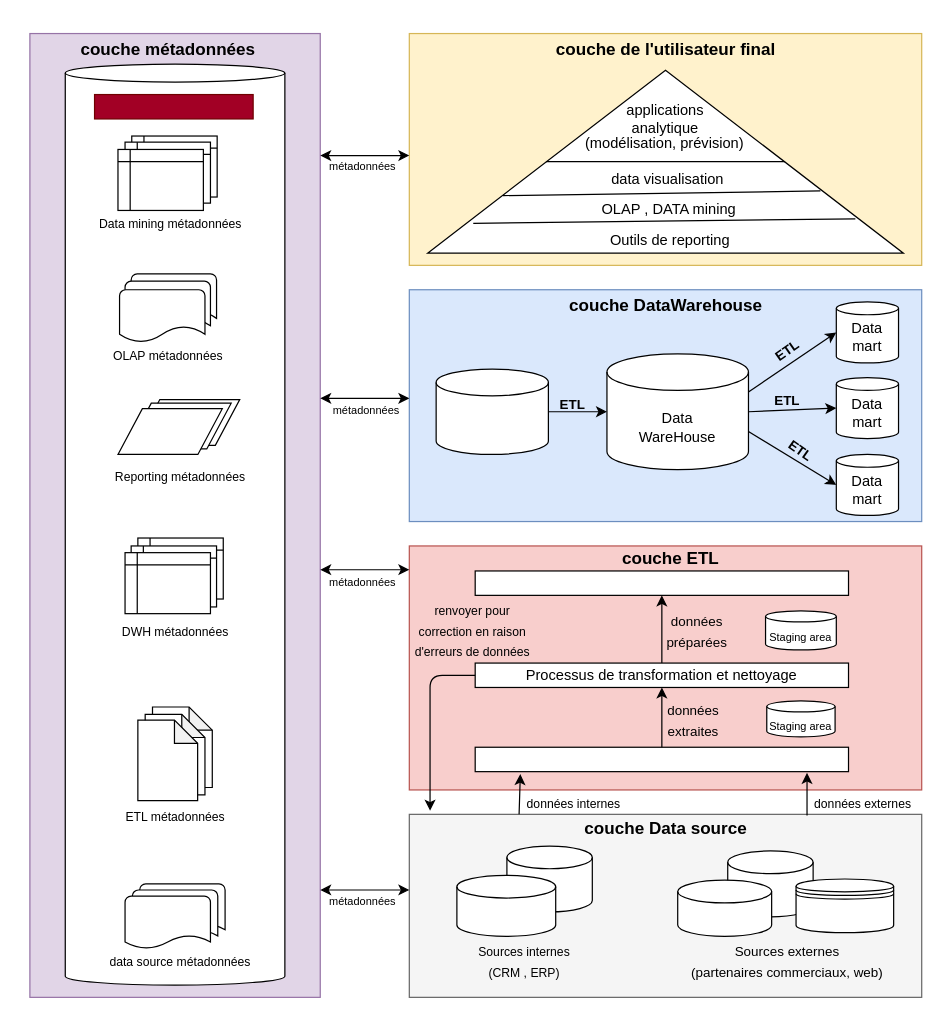
This 943x1019 diagram has some shape labels left out. The centre of each missing label's shape, as x and y in pixels:
Data source (Opérationnel): (x=491, y=411)
dépôt métadonnées: (x=173, y=106)
Processus d'extraction: (x=661, y=759)
Processus de chargement: (x=661, y=582)
